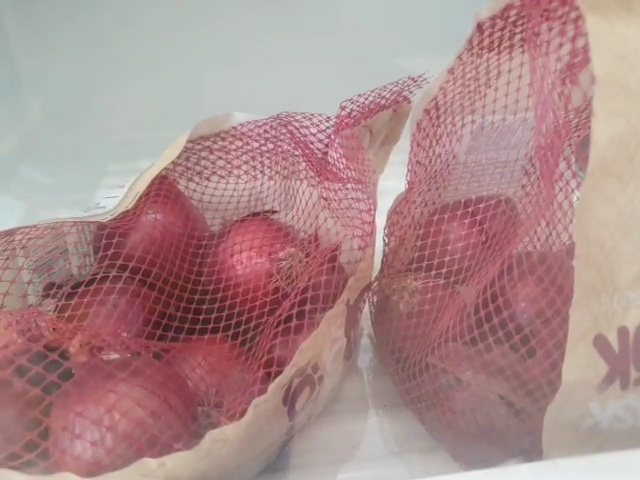red_onion: (5, 181, 346, 470), (399, 202, 572, 449)
